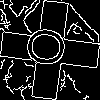O: (25, 25, 76, 70)
